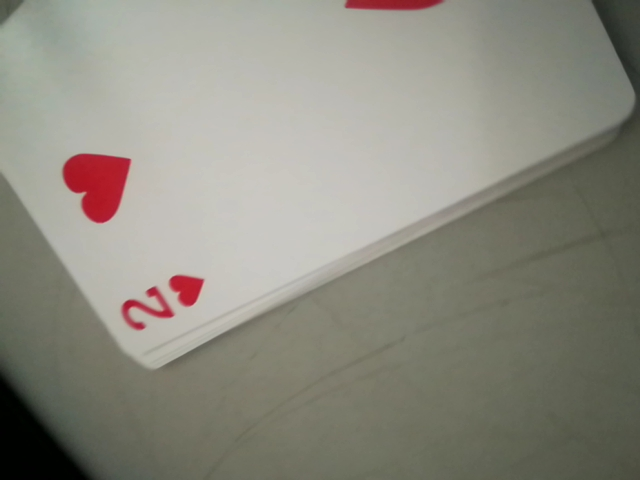hx 2: (113, 264, 221, 344)
